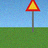sign: (25, 0, 40, 35)
